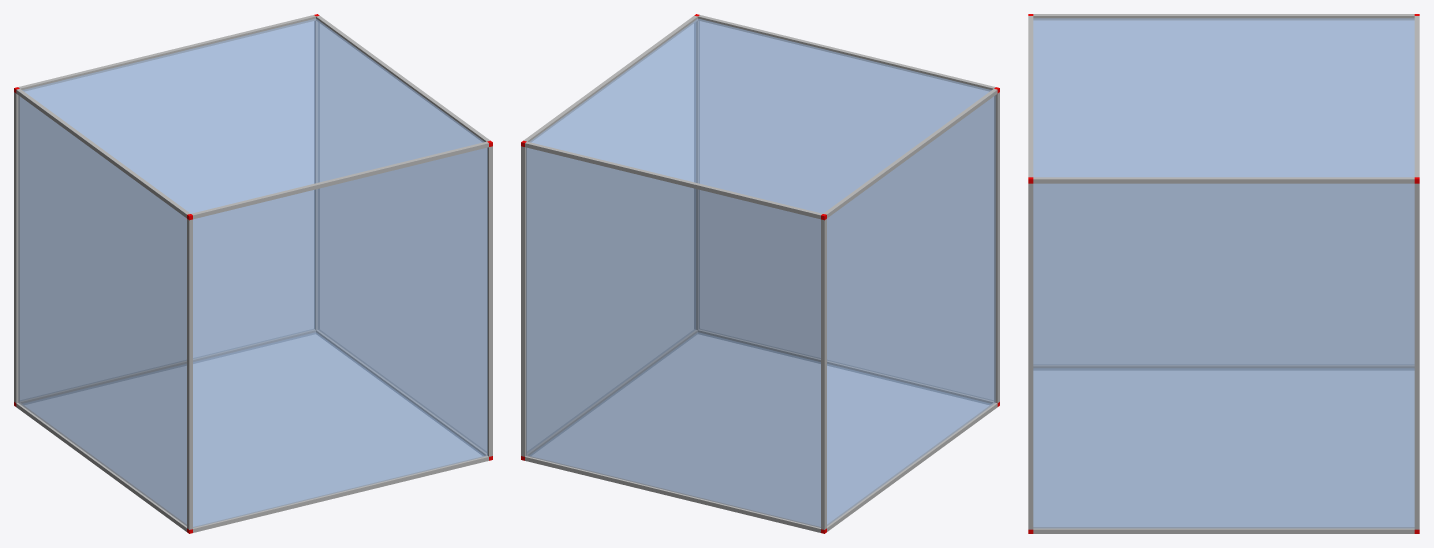
3 renders of one model, left to right at view 1: azimuth 30°, elevation 25°; view 2: azimuth 150°, elevation 25°; view 3: azimuth 270°, elevation 25°, orthographic. The views are drawn at different scales.
Parts seen in each view (by area): view 1: Kub; view 2: Kub; view 3: Kub.
Part boxes in pixels (x1,y1,x2,y2): Kub: (14, 14, 492, 533); Kub: (521, 14, 999, 533); Kub: (1028, 14, 1419, 533).
Bounding box in the file's own units: 40 × 40 × 40.
